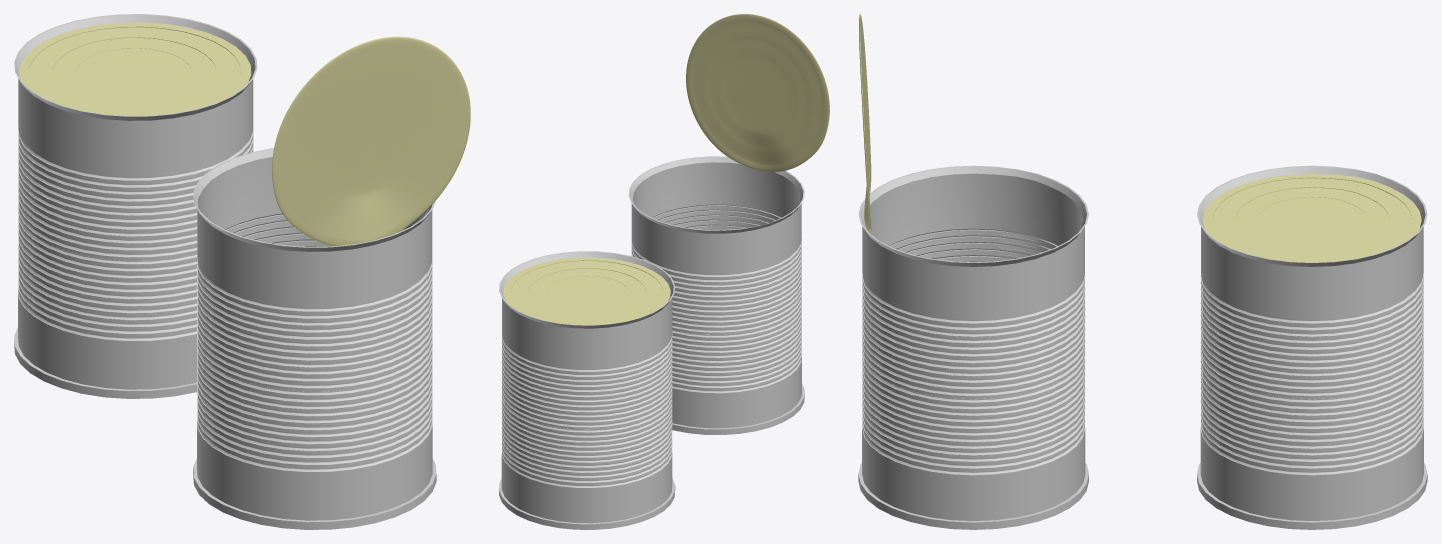
The model's file is Canister.fbx.
3 views of the same model, side by side, from view 1: azimuth 30°, elevation 25°; view 2: azimuth 150°, elevation 25°; view 3: azimuth 270°, elevation 25° (orthographic). The views are drawn at different scales.
Visible parts, largest first — view 1: EmptyCan_Open, EmptyCan_Closed; view 2: EmptyCan_Open, EmptyCan_Closed; view 3: EmptyCan_Open, EmptyCan_Closed.
Boxes of the visible parts, x1,y1,x2,y2 form: EmptyCan_Open: [193, 36, 470, 529]; EmptyCan_Closed: [14, 14, 257, 398]; EmptyCan_Open: [628, 14, 829, 434]; EmptyCan_Closed: [499, 251, 675, 529]; EmptyCan_Open: [858, 14, 1088, 529]; EmptyCan_Closed: [1197, 165, 1427, 529].
Size of the model in its own units: 203 by 443 by 500.
